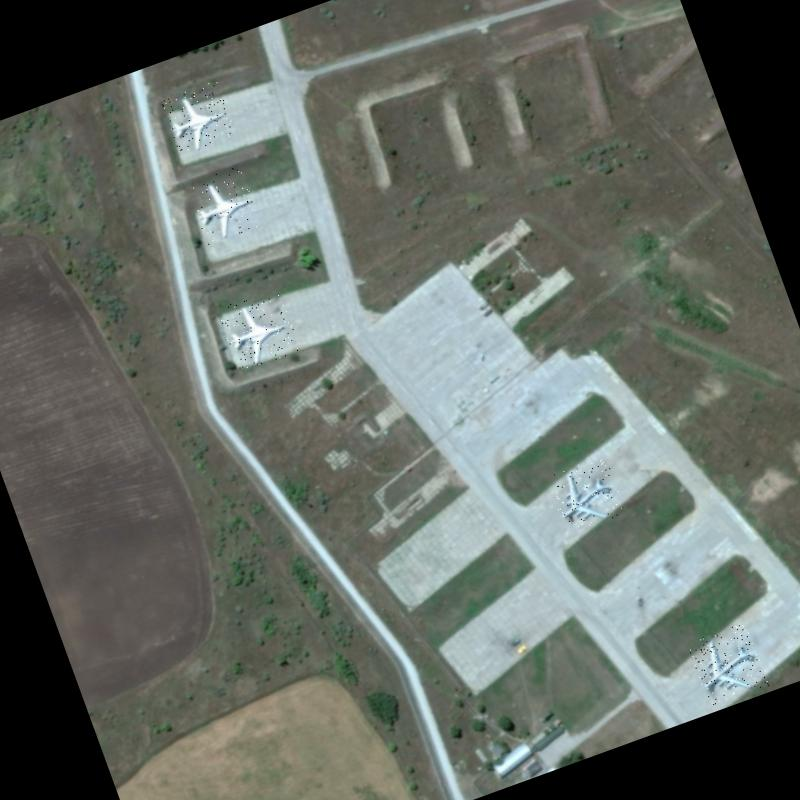A17: (686, 622, 768, 706), (546, 454, 626, 534)
A6: (215, 285, 301, 372), (186, 164, 264, 245), (160, 80, 237, 156)
